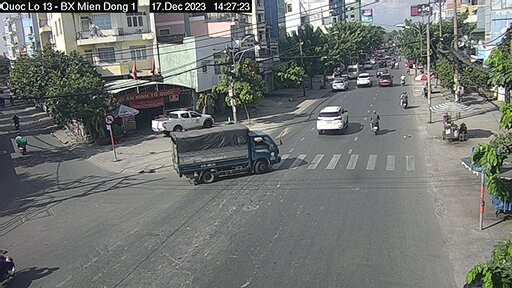car: (150, 113, 215, 131), (315, 105, 353, 134), (331, 74, 350, 96), (357, 75, 375, 87), (375, 72, 393, 84), (344, 62, 357, 78)
motorbike: (13, 134, 28, 158), (400, 88, 413, 109), (369, 109, 381, 131)
truck: (168, 129, 280, 175)
